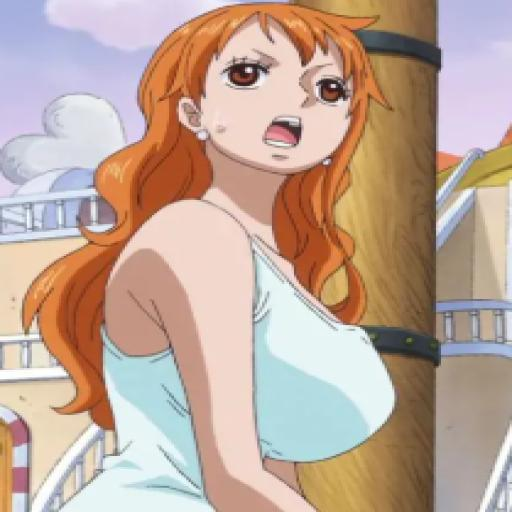Nami: (37, 1, 440, 512)
